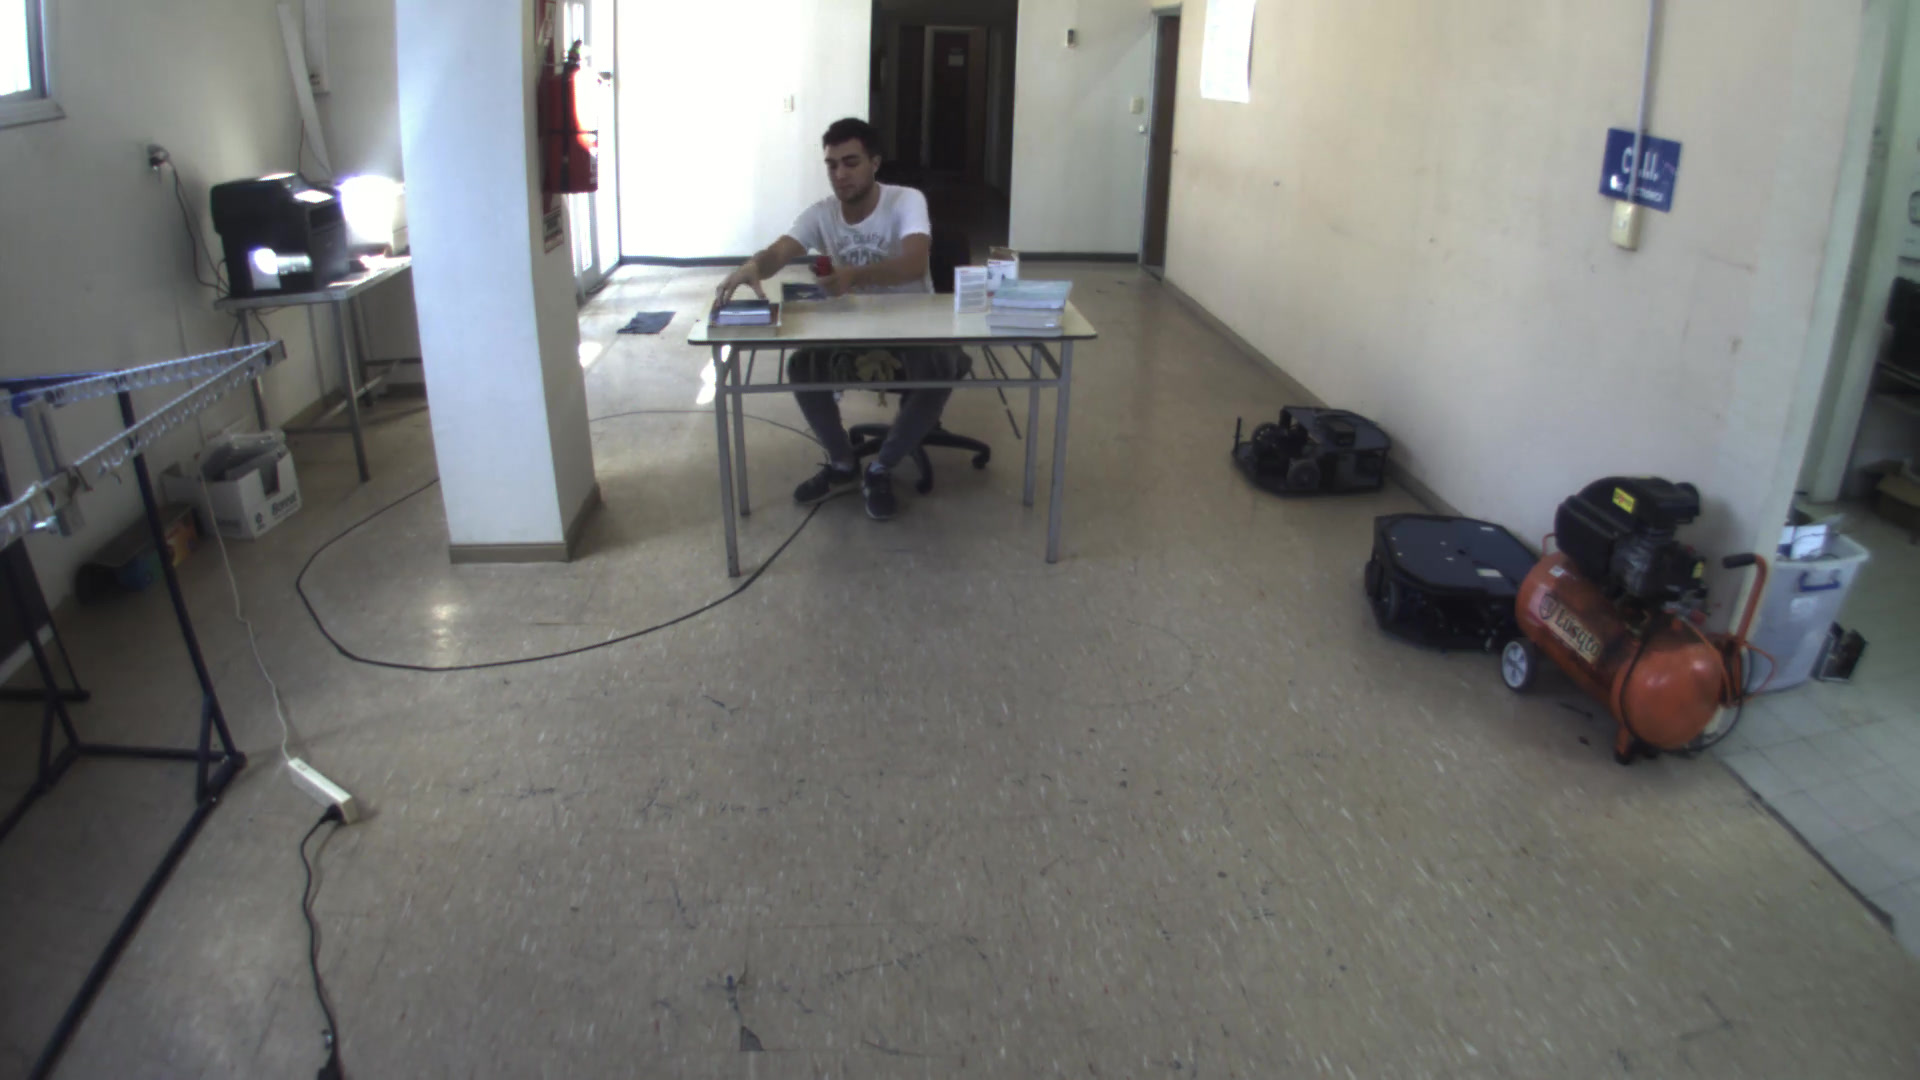hand: (711, 261, 770, 310), (804, 258, 853, 298)
